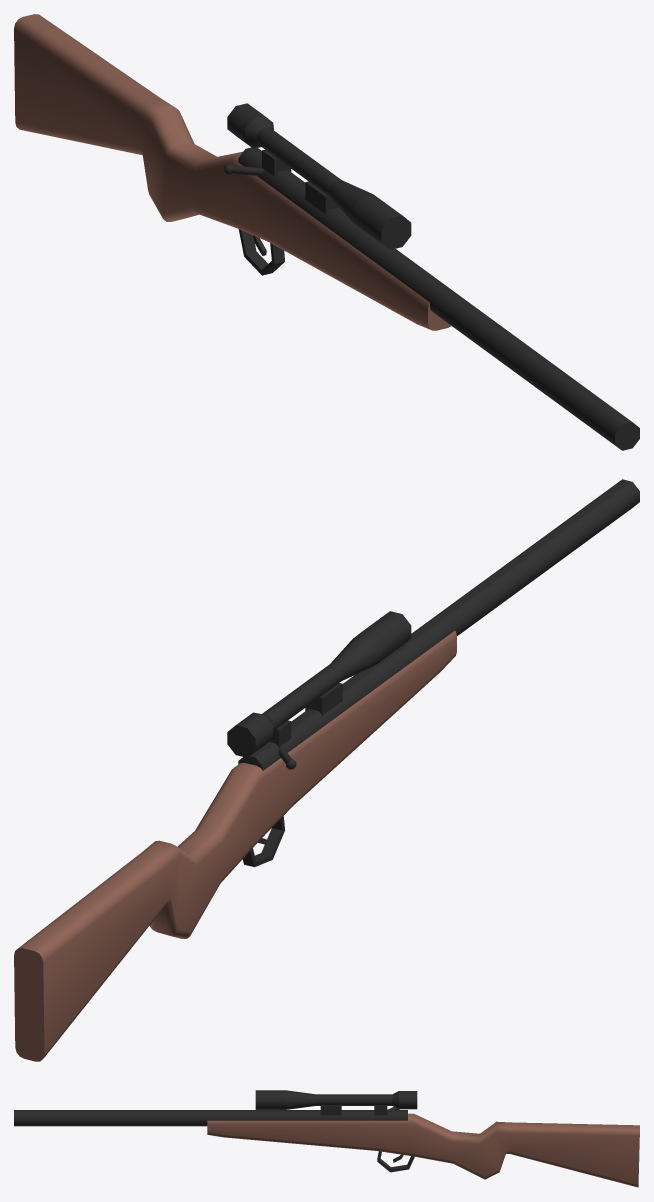
3 renders of one model, top to bottom at view 1: azimuth 30°, elevation 25°; view 2: azimuth 150°, elevation 25°; view 3: azimuth 270°, elevation 25°, orthographic. The views are drawn at different scales.
Visible parts, largest first — view 1: M40 Body; view 2: M40 Body; view 3: M40 Body.
Part boxes in pixels (x1,y1,x2,y2): M40 Body: (14,14,639,450); M40 Body: (14,479,639,1061); M40 Body: (14,1090,639,1187).
Bounding box in the file's own units: 0.1134 × 0.3857 × 2.33.
